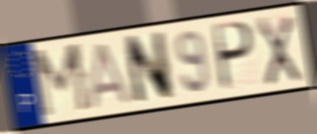9: (174, 28, 211, 96)
A: (88, 40, 134, 111)
M: (31, 40, 93, 122)
N: (122, 28, 176, 108)
P: (213, 20, 257, 94)
X: (254, 13, 303, 88)
